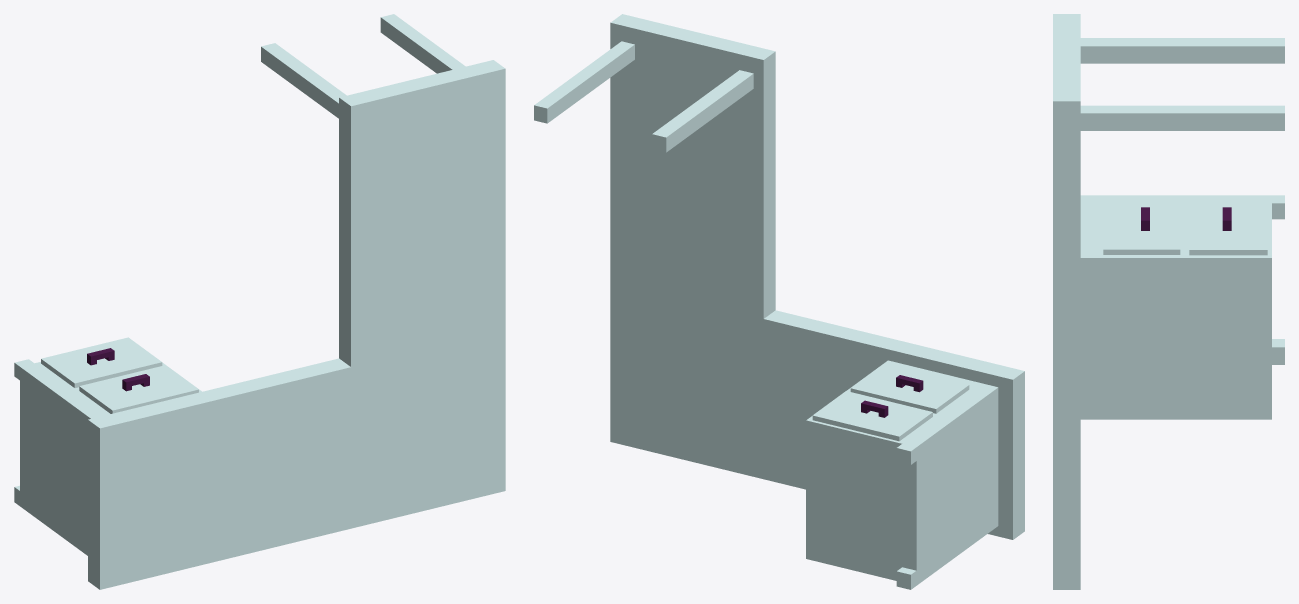
Rendered from CubicleDesk.fbx.
3 views of the same model, side by side, from view 1: azimuth 30°, elevation 25°; view 2: azimuth 150°, elevation 25°; view 3: azimuth 270°, elevation 25° (orthographic). The views are drawn at different scales.
Visible parts, largest first — view 1: CubicleDesk; view 2: CubicleDesk; view 3: CubicleDesk.
Boxes of the visible parts, left/top/right/bottom form: CubicleDesk: left=14, top=14, right=505, bottom=589; CubicleDesk: left=534, top=14, right=1024, bottom=589; CubicleDesk: left=1053, top=14, right=1284, bottom=589.
Size of the model in its own units: 90174 by 89728 by 38583.
Materials: 2 (2 with a texture image).
